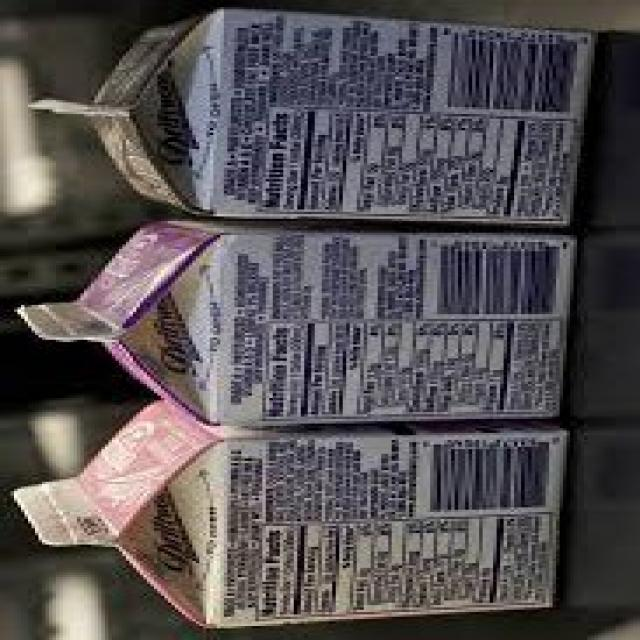non_white_jug: (28, 4, 597, 227), (18, 223, 580, 424), (16, 426, 573, 628)
